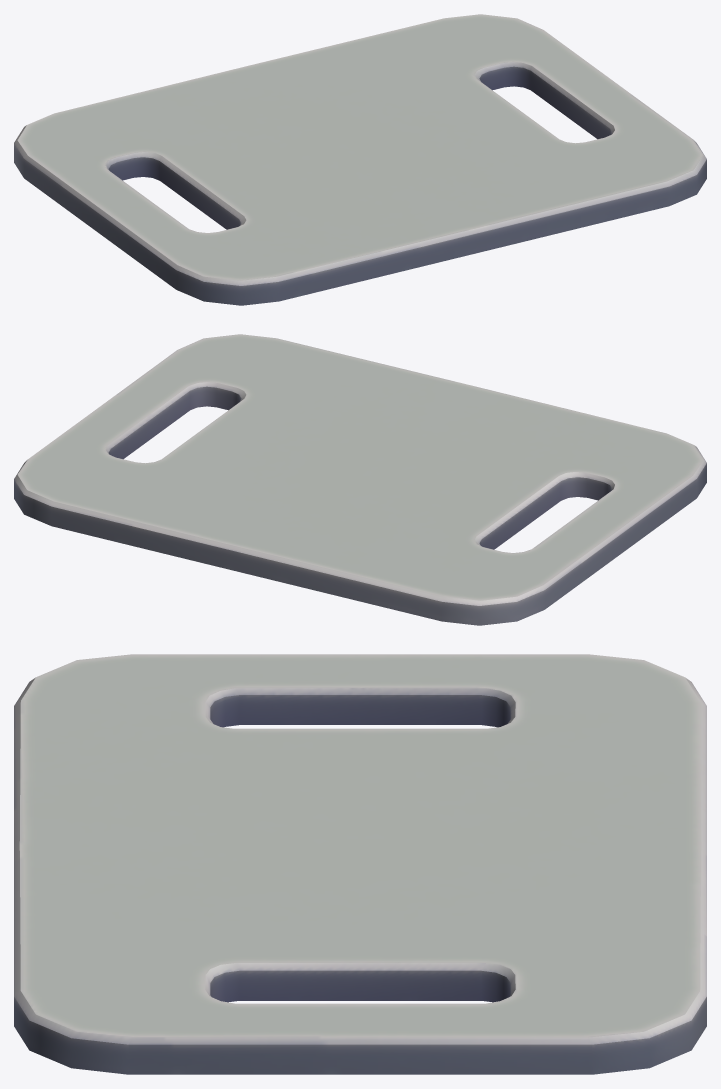
The model's file is CuttingBoard.fbx.
3 views of the same model, one above another, from view 1: azimuth 30°, elevation 25°; view 2: azimuth 150°, elevation 25°; view 3: azimuth 270°, elevation 25° (orthographic). The views are drawn at different scales.
Parts seen in each view (by area): view 1: Cutting_Board; view 2: Cutting_Board; view 3: Cutting_Board.
Boxes of the visible parts, bbox=[...] form: Cutting_Board: bbox=[14, 14, 706, 305]; Cutting_Board: bbox=[14, 334, 706, 625]; Cutting_Board: bbox=[14, 654, 706, 1074].
Size of the model in its own units: 158 by 6.72 by 120.
1 material, 1 textured.
